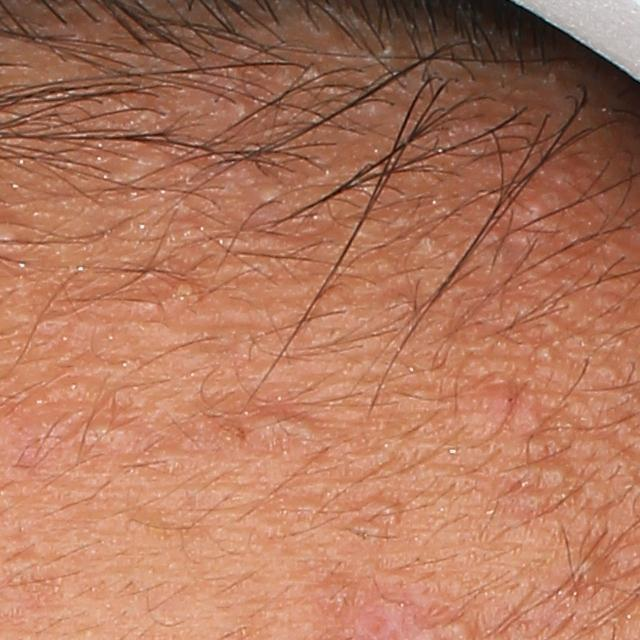comedo: (243, 404, 316, 455), (83, 407, 143, 452), (220, 232, 305, 259), (470, 386, 515, 437), (513, 195, 553, 239), (532, 461, 572, 498), (358, 498, 402, 528), (164, 276, 201, 307), (575, 547, 600, 589), (529, 341, 559, 371), (252, 180, 282, 208), (227, 95, 254, 126), (412, 230, 442, 257), (520, 406, 542, 440)
